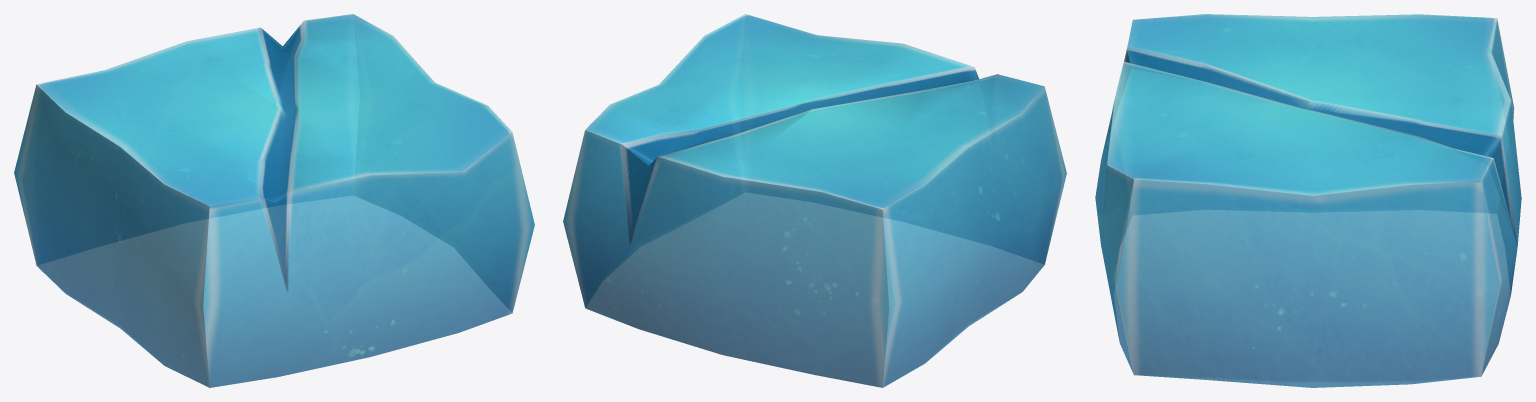
Rendered from ice_2.fbx.
3 views of the same model, side by side, from view 1: azimuth 30°, elevation 25°; view 2: azimuth 150°, elevation 25°; view 3: azimuth 270°, elevation 25° (orthographic). The views are drawn at different scales.
Parts seen in each view (by area): view 1: ice_element_2; view 2: ice_element_2; view 3: ice_element_2.
Boxes of the visible parts, left/top/right/bottom form: ice_element_2: left=14, top=14, right=534, bottom=387; ice_element_2: left=563, top=14, right=1066, bottom=387; ice_element_2: left=1095, top=14, right=1521, bottom=387.
Size of the model in its own units: 151 by 73.67 by 145.
